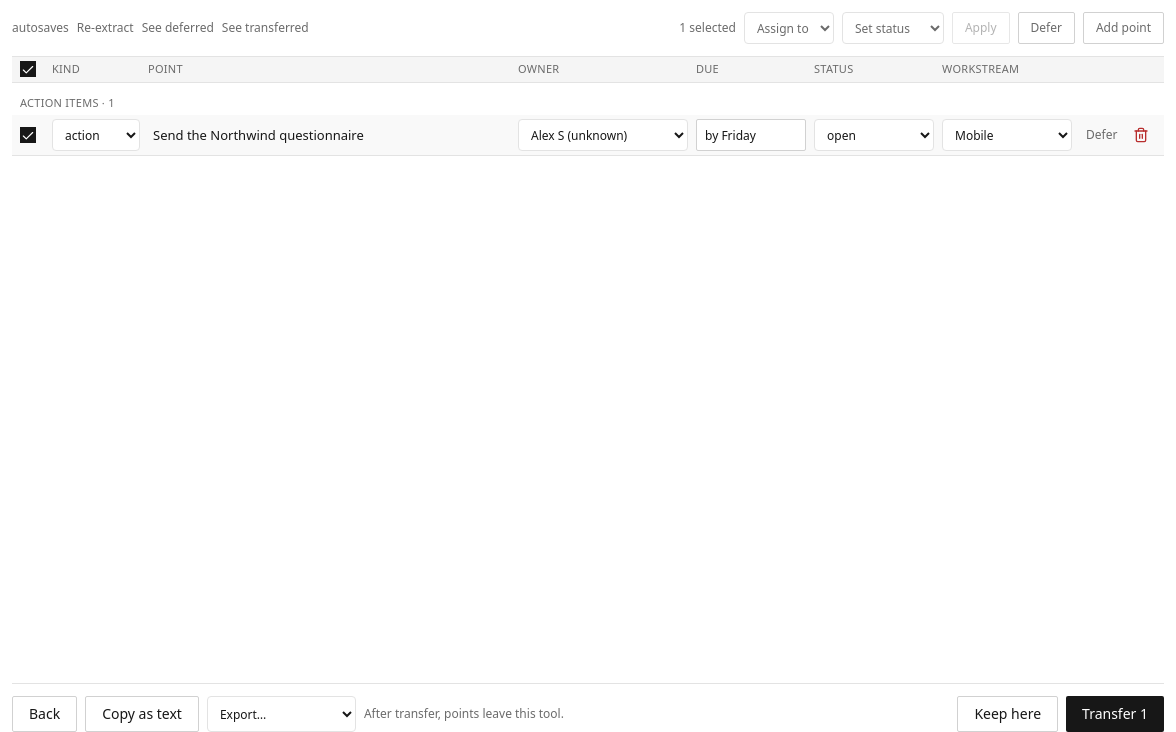
it: PointsStep › says when nothing has been transferred from this meeting
Click the button "See transferred" at (265, 28), box [222,20,309,36]
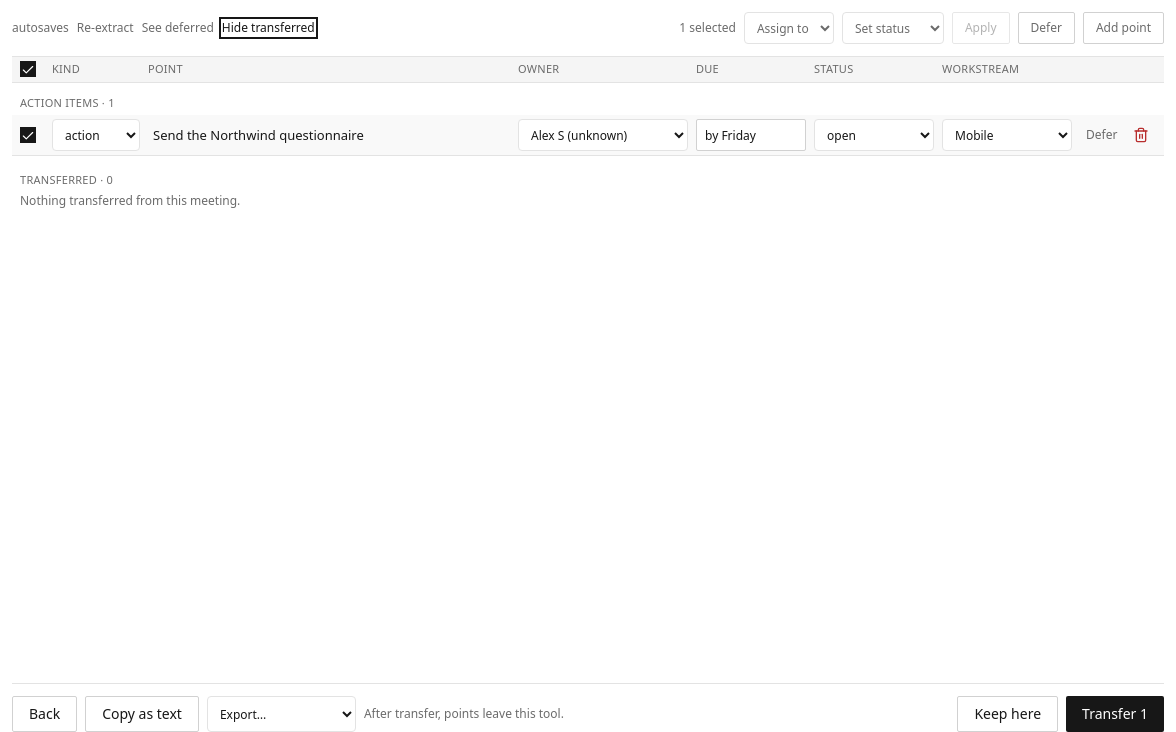
expect the element with test id "transferred" shows "Nothing transferred from this meeting.": met, box [20,192,240,208]
